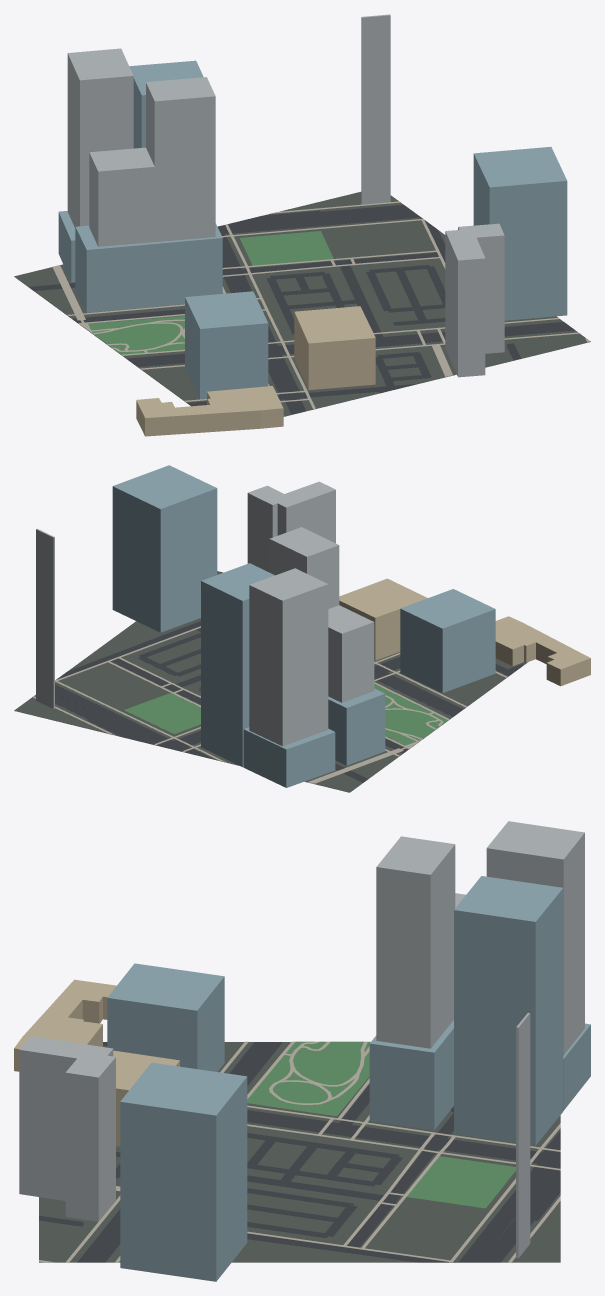
Rendered from tile_005_007.glb.
3 renders of one model, top to bottom at view 1: azimuth 30°, elevation 25°; view 2: azimuth 150°, elevation 25°; view 3: azimuth 270°, elevation 25°, orthographic. The views are drawn at different scales.
Parts seen in each view (by area): view 1: tile_005_007_buildings_neutral, tile_005_007_buildings_office, tile_005_007_ground, tile_005_007_roads, tile_005_007_buildings_detailed_bgc_building_0015, tile_005_007_buildings_detailed_bgc_building_0007, tile_005_007_paths, tile_005_007_buildings_retail, tile_005_007_open_spaces; view 2: tile_005_007_buildings_office, tile_005_007_buildings_neutral, tile_005_007_ground, tile_005_007_buildings_detailed_bgc_building_0015, tile_005_007_roads, tile_005_007_open_spaces, tile_005_007_buildings_retail, tile_005_007_buildings_detailed_bgc_building_0007, tile_005_007_paths; view 3: tile_005_007_buildings_office, tile_005_007_buildings_neutral, tile_005_007_ground, tile_005_007_roads, tile_005_007_buildings_detailed_bgc_building_0015, tile_005_007_open_spaces, tile_005_007_paths, tile_005_007_buildings_retail, tile_005_007_buildings_detailed_bgc_building_0007.
Part boxes in pixels (bbox=[...]): tile_005_007_buildings_neutral: bbox=[67, 14, 504, 377]; tile_005_007_buildings_office: bbox=[58, 60, 567, 320]; tile_005_007_ground: bbox=[14, 192, 590, 416]; tile_005_007_roads: bbox=[29, 205, 574, 414]; tile_005_007_buildings_detailed_bgc_building_0015: bbox=[185, 291, 268, 399]; tile_005_007_buildings_detailed_bgc_building_0007: bbox=[294, 306, 375, 389]; tile_005_007_paths: bbox=[52, 201, 589, 416]; tile_005_007_buildings_retail: bbox=[136, 386, 283, 436]; tile_005_007_open_spaces: bbox=[88, 231, 333, 354]; tile_005_007_buildings_office: bbox=[112, 465, 385, 787]; tile_005_007_buildings_neutral: bbox=[36, 481, 374, 746]; tile_005_007_ground: bbox=[14, 571, 527, 792]; tile_005_007_buildings_detailed_bgc_building_0015: bbox=[400, 589, 495, 693]; tile_005_007_roads: bbox=[55, 621, 524, 782]; tile_005_007_open_spaces: bbox=[124, 684, 447, 745]; tile_005_007_buildings_retail: bbox=[495, 616, 590, 686]; tile_005_007_buildings_detailed_bgc_building_0007: bbox=[339, 578, 427, 660]; tile_005_007_paths: bbox=[32, 626, 524, 783]; tile_005_007_buildings_office: bbox=[120, 876, 590, 1281]; tile_005_007_buildings_neutral: bbox=[19, 821, 584, 1258]; tile_005_007_ground: bbox=[39, 1042, 560, 1262]; tile_005_007_roads: bbox=[39, 1042, 560, 1262]; tile_005_007_buildings_detailed_bgc_building_0015: bbox=[107, 963, 224, 1071]; tile_005_007_open_spaces: bbox=[247, 1041, 515, 1208]; tile_005_007_paths: bbox=[39, 1041, 560, 1262]; tile_005_007_buildings_retail: bbox=[14, 979, 116, 1071]; tile_005_007_buildings_detailed_bgc_building_0007: bbox=[113, 1050, 179, 1146].
Bounding box in the file's own units: 317 × 133 × 276.
